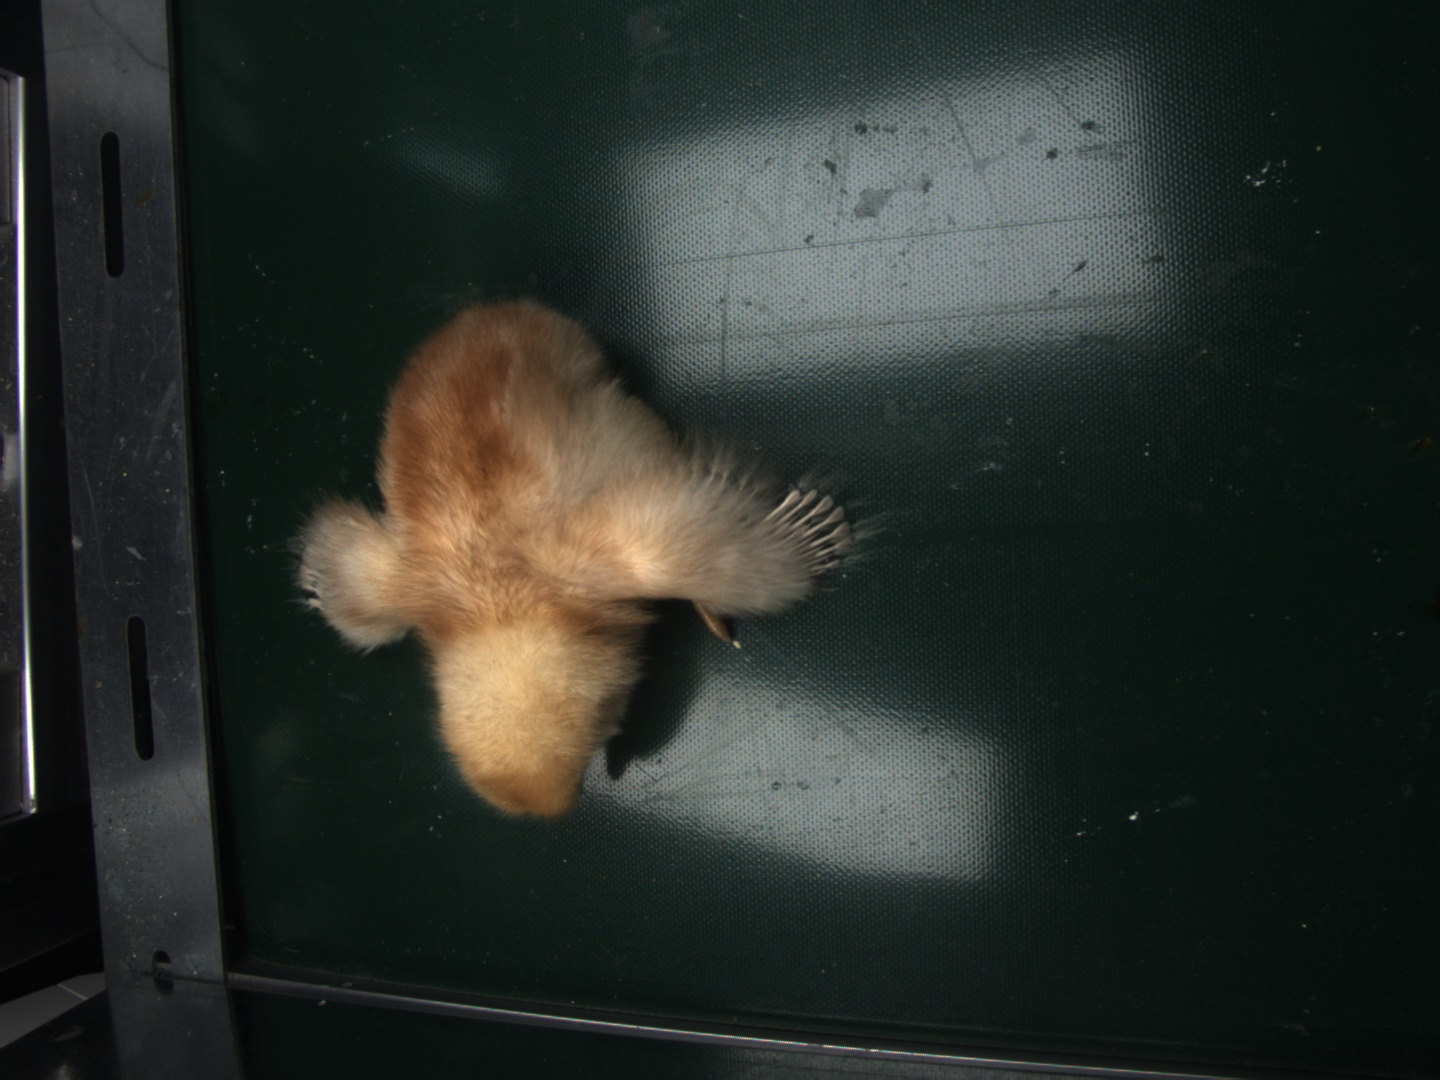female: (768, 486, 852, 575)
